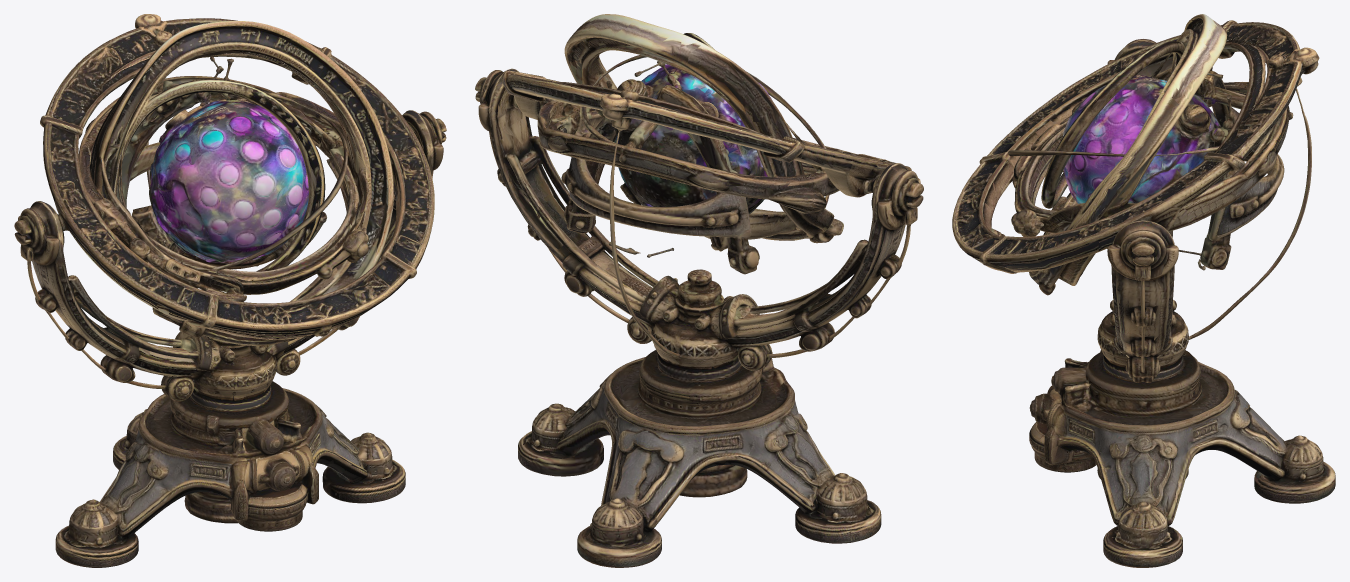
Rendered from Celestial_Armillary.glb.
The picture shows the model from 3 angles, left to right: view 1: azimuth 30°, elevation 25°; view 2: azimuth 150°, elevation 25°; view 3: azimuth 270°, elevation 25°; orthographic projection. The views are drawn at different scales.
Visible parts, largest first — view 1: Celestial_Armillary; view 2: Celestial_Armillary; view 3: Celestial_Armillary.
Boxes of the visible parts, x1,y1,x2,y2 form: Celestial_Armillary: (14, 14, 446, 567); Celestial_Armillary: (475, 14, 923, 567); Celestial_Armillary: (952, 14, 1335, 567).
Size of the model in its own units: 1.79 by 1.9 by 1.42.
1 material, 1 textured.
